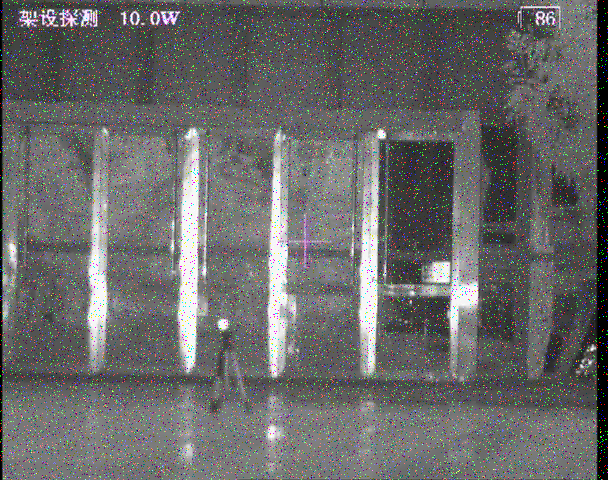my: (216, 318, 229, 332)
